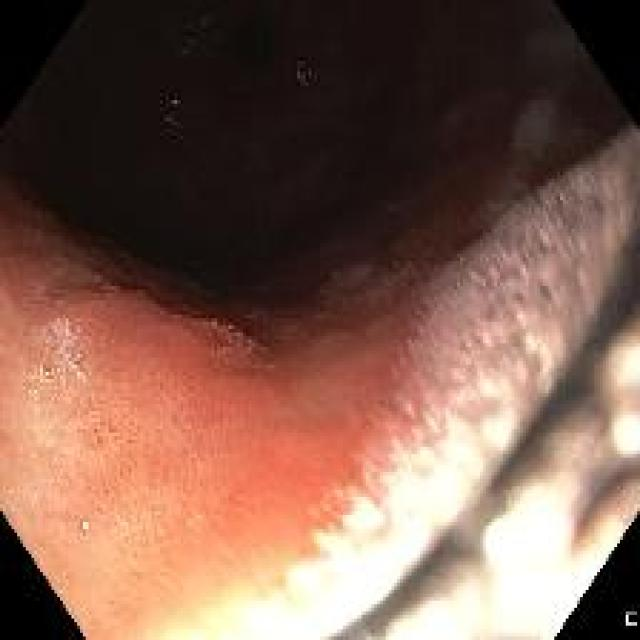blur: (366, 152, 631, 467)
bubbles: (474, 118, 632, 334), (383, 269, 538, 441), (505, 88, 562, 154), (38, 315, 82, 384), (176, 19, 229, 63), (317, 259, 370, 297), (371, 256, 414, 297), (164, 94, 185, 130), (295, 54, 317, 88)
contrast: (6, 3, 508, 329), (518, 2, 636, 182)
saturation: (183, 376, 512, 631), (379, 473, 626, 635), (604, 328, 637, 464)
specularity: (76, 512, 102, 544)
